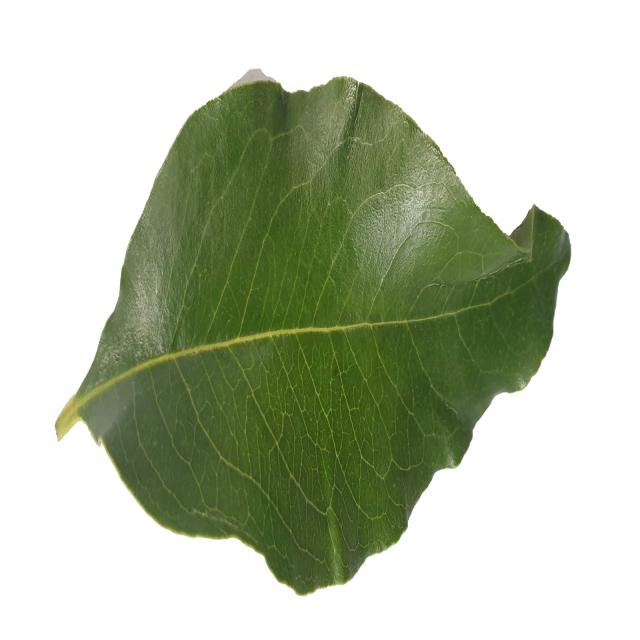Medicinal-Sandalwood: (55, 72, 572, 599)
